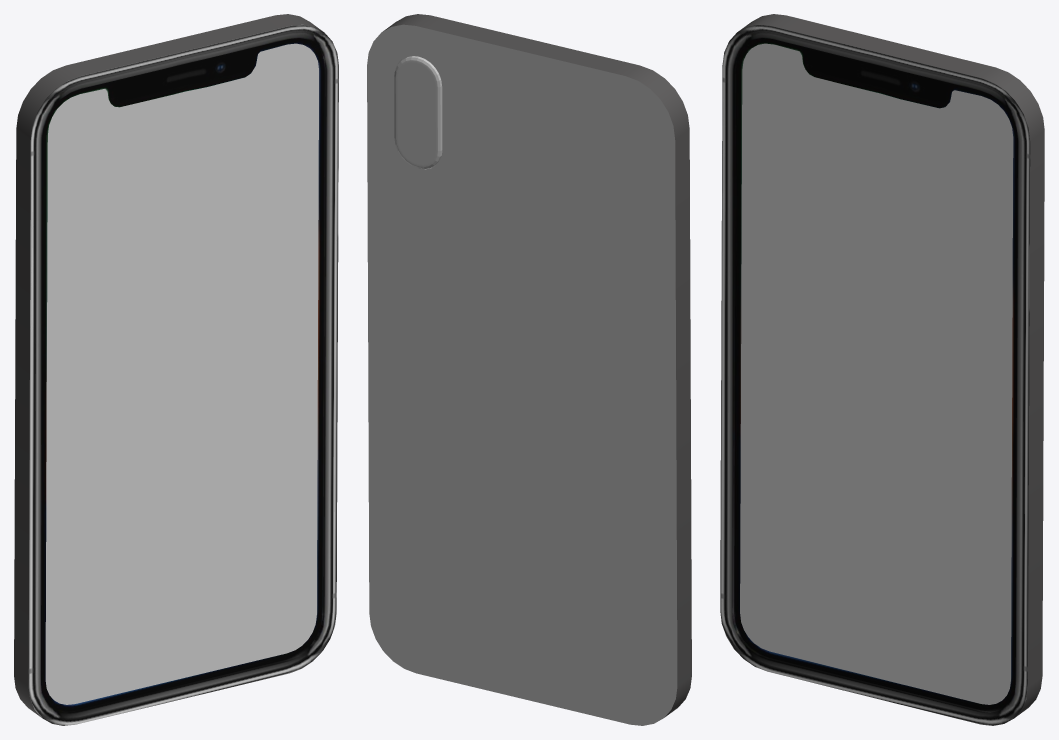
File: iphone x.fbx
The picture shows the model from 3 angles, left to right: view 1: azimuth 30°, elevation 25°; view 2: azimuth 150°, elevation 25°; view 3: azimuth 330°, elevation 25°; orthographic projection.
Parts seen in each view (by area): view 1: iphone x; view 2: iphone x; view 3: iphone x.
Part boxes in pixels (left/top/right/bottom): iphone x: left=14, top=14, right=338, bottom=725; iphone x: left=367, top=14, right=691, bottom=725; iphone x: left=720, top=14, right=1044, bottom=725.
Bounding box in the file's own units: 183 × 365 × 16.53.
